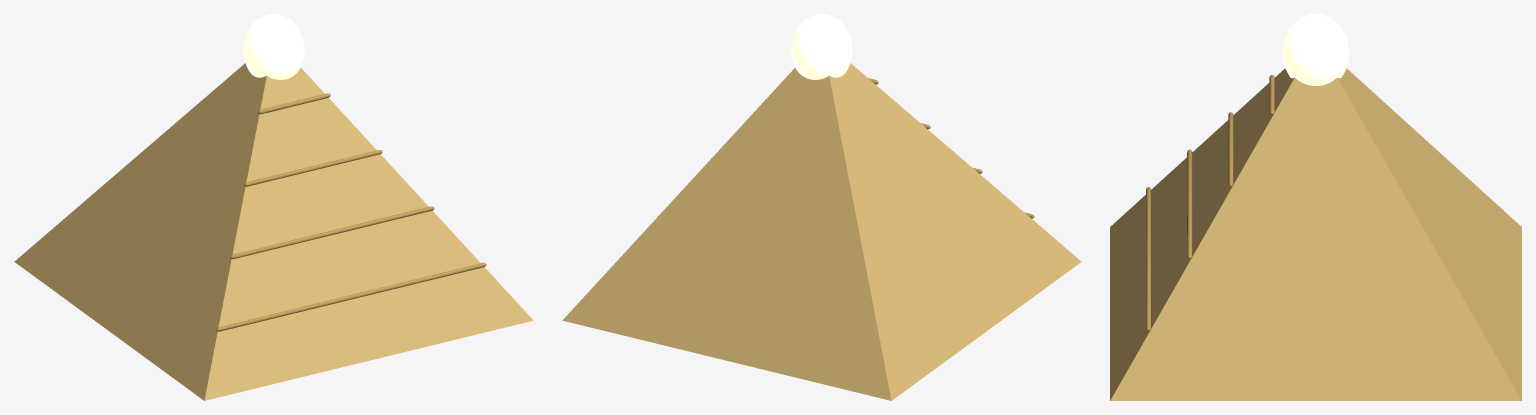
Rendered from deco_piramide.glb.
The picture shows the model from 3 angles, left to right: view 1: azimuth 30°, elevation 25°; view 2: azimuth 150°, elevation 25°; view 3: azimuth 270°, elevation 25°; orthographic projection. The views are drawn at different scales.
Parts seen in each view (by area): view 1: pirámide.001, punta luz.001, hilada 1.001, hilada 2.001, hilada 3.001; view 2: pirámide.001, punta luz.001; view 3: pirámide.001, punta luz.001, hilada 1.001, hilada 2.001, hilada 3.001.
Boxes of the visible parts, bbox=[...] form: pirámide.001: bbox=[14, 63, 533, 400]; punta luz.001: bbox=[243, 14, 304, 79]; hilada 1.001: bbox=[216, 262, 486, 331]; hilada 2.001: bbox=[230, 206, 434, 259]; hilada 3.001: bbox=[244, 150, 382, 186]; pirámide.001: bbox=[562, 63, 1081, 400]; punta luz.001: bbox=[791, 14, 852, 79]; pirámide.001: bbox=[1110, 68, 1521, 400]; punta luz.001: bbox=[1282, 14, 1349, 85]; hilada 1.001: bbox=[1146, 187, 1150, 331]; hilada 2.001: bbox=[1187, 149, 1192, 259]; hilada 3.001: bbox=[1228, 112, 1233, 187].
Bounding box in the file's own units: 0.3 × 0.2392 × 0.3.
